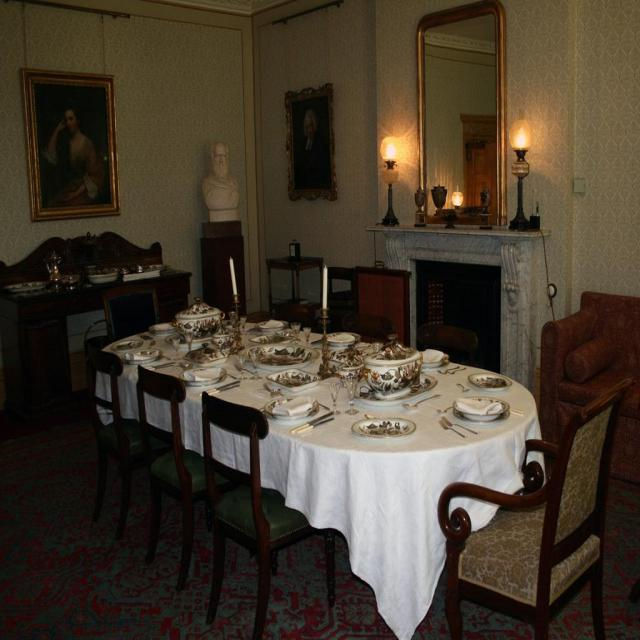Table: (92, 300, 536, 640)
